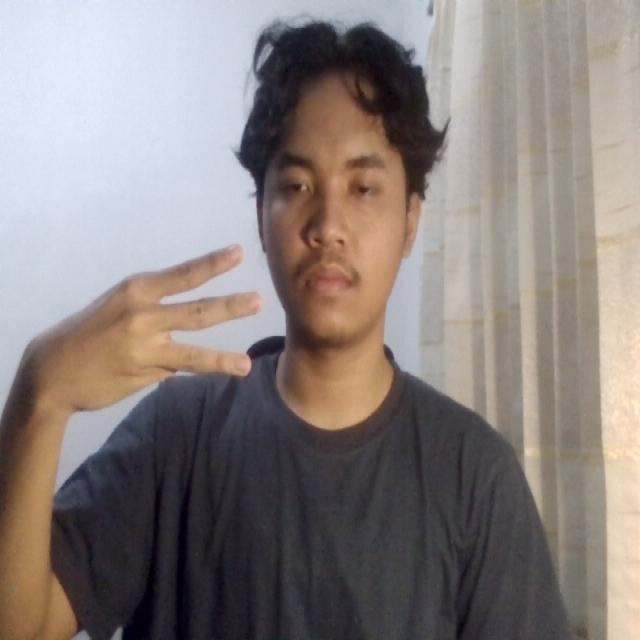E: (62, 232, 279, 432)
